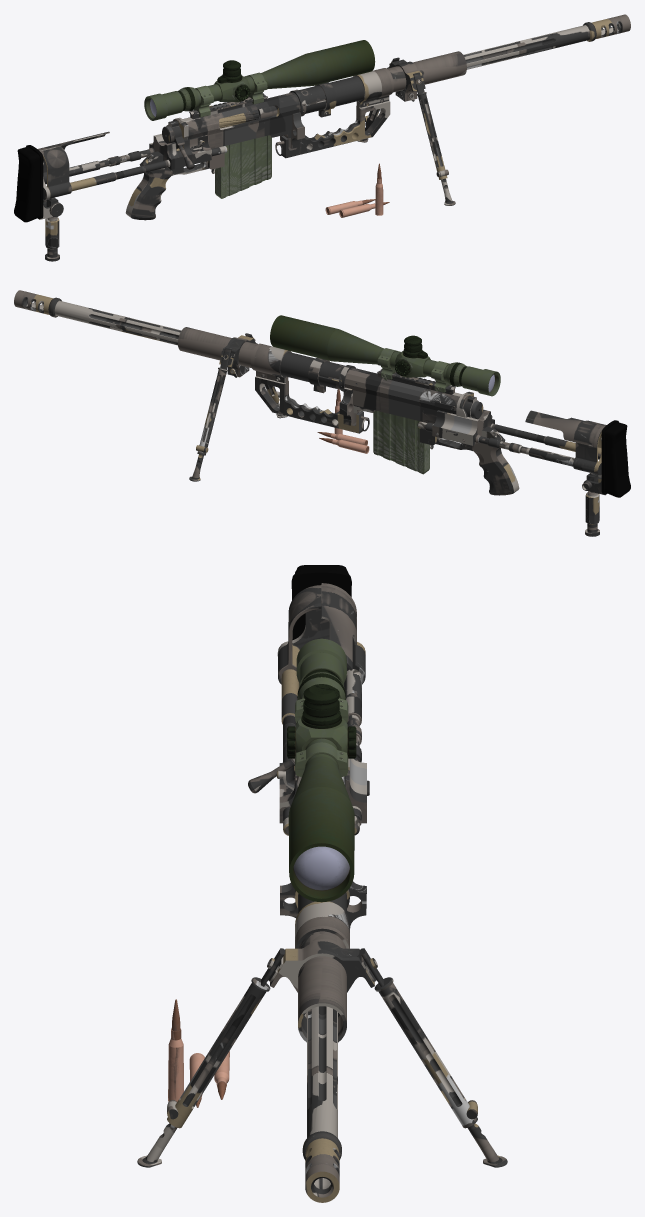
3 renders of one model, top to bottom at view 1: azimuth 30°, elevation 25°; view 2: azimuth 150°, elevation 25°; view 3: azimuth 270°, elevation 25°, orthographic. The views are drawn at different scales.
Visible parts, largest first — view 1: gun, optics, magaz; view 2: gun, optics, magaz; view 3: gun, optics, magaz.
Boxes of the visible parts, x1,y1,x2,y2 form: gun: (14,14,630,261); optics: (144,40,375,120); magaz: (215,135,389,217); gun: (14,290,630,536); optics: (270,315,500,396); magaz: (317,389,429,474); gun: (137,565,507,1202); optics: (287,638,356,902); magaz: (168,999,229,1107).
Bounding box in the file's own units: 1.37 × 0.3259 × 0.3608.
